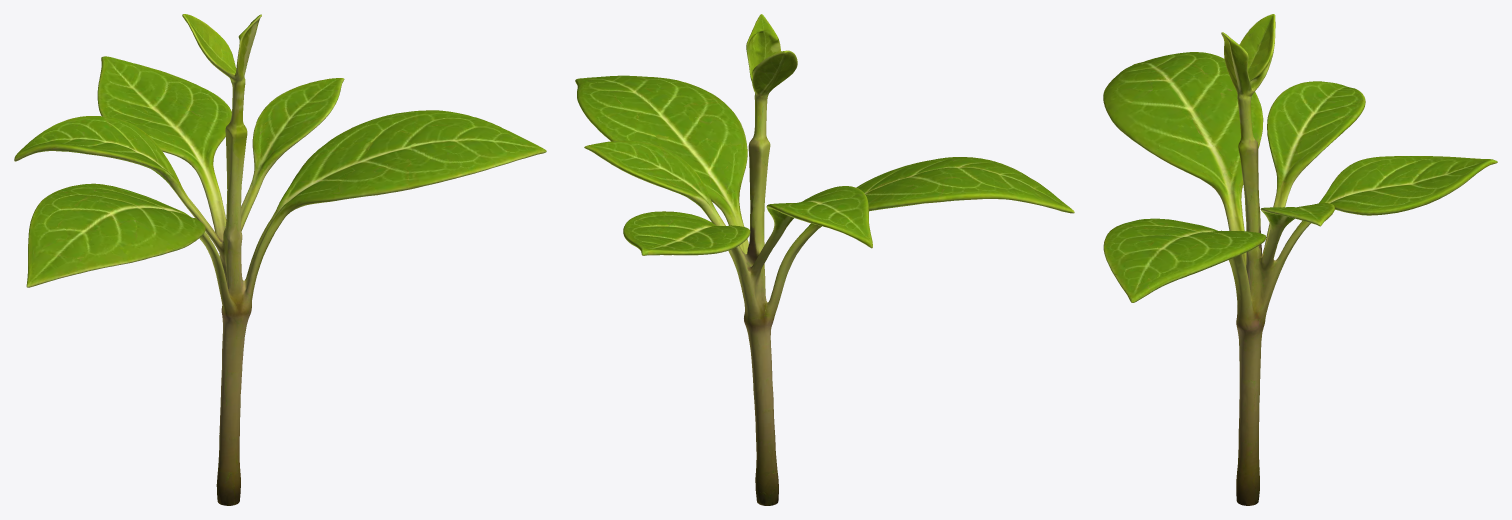
The model's file is stage-2.glb.
3 views of the same model, side by side, from view 1: azimuth 30°, elevation 25°; view 2: azimuth 150°, elevation 25°; view 3: azimuth 270°, elevation 25° (orthographic). The views are drawn at different scales.
Bounding box in the file's own units: 1.91 × 1.73 × 1.29.
1 material, 1 textured.
